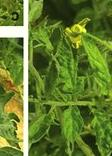Tomato leaf mosaic virus: (84, 40, 110, 96), (56, 37, 77, 97), (29, 106, 54, 143), (90, 114, 112, 156), (61, 104, 83, 145)
